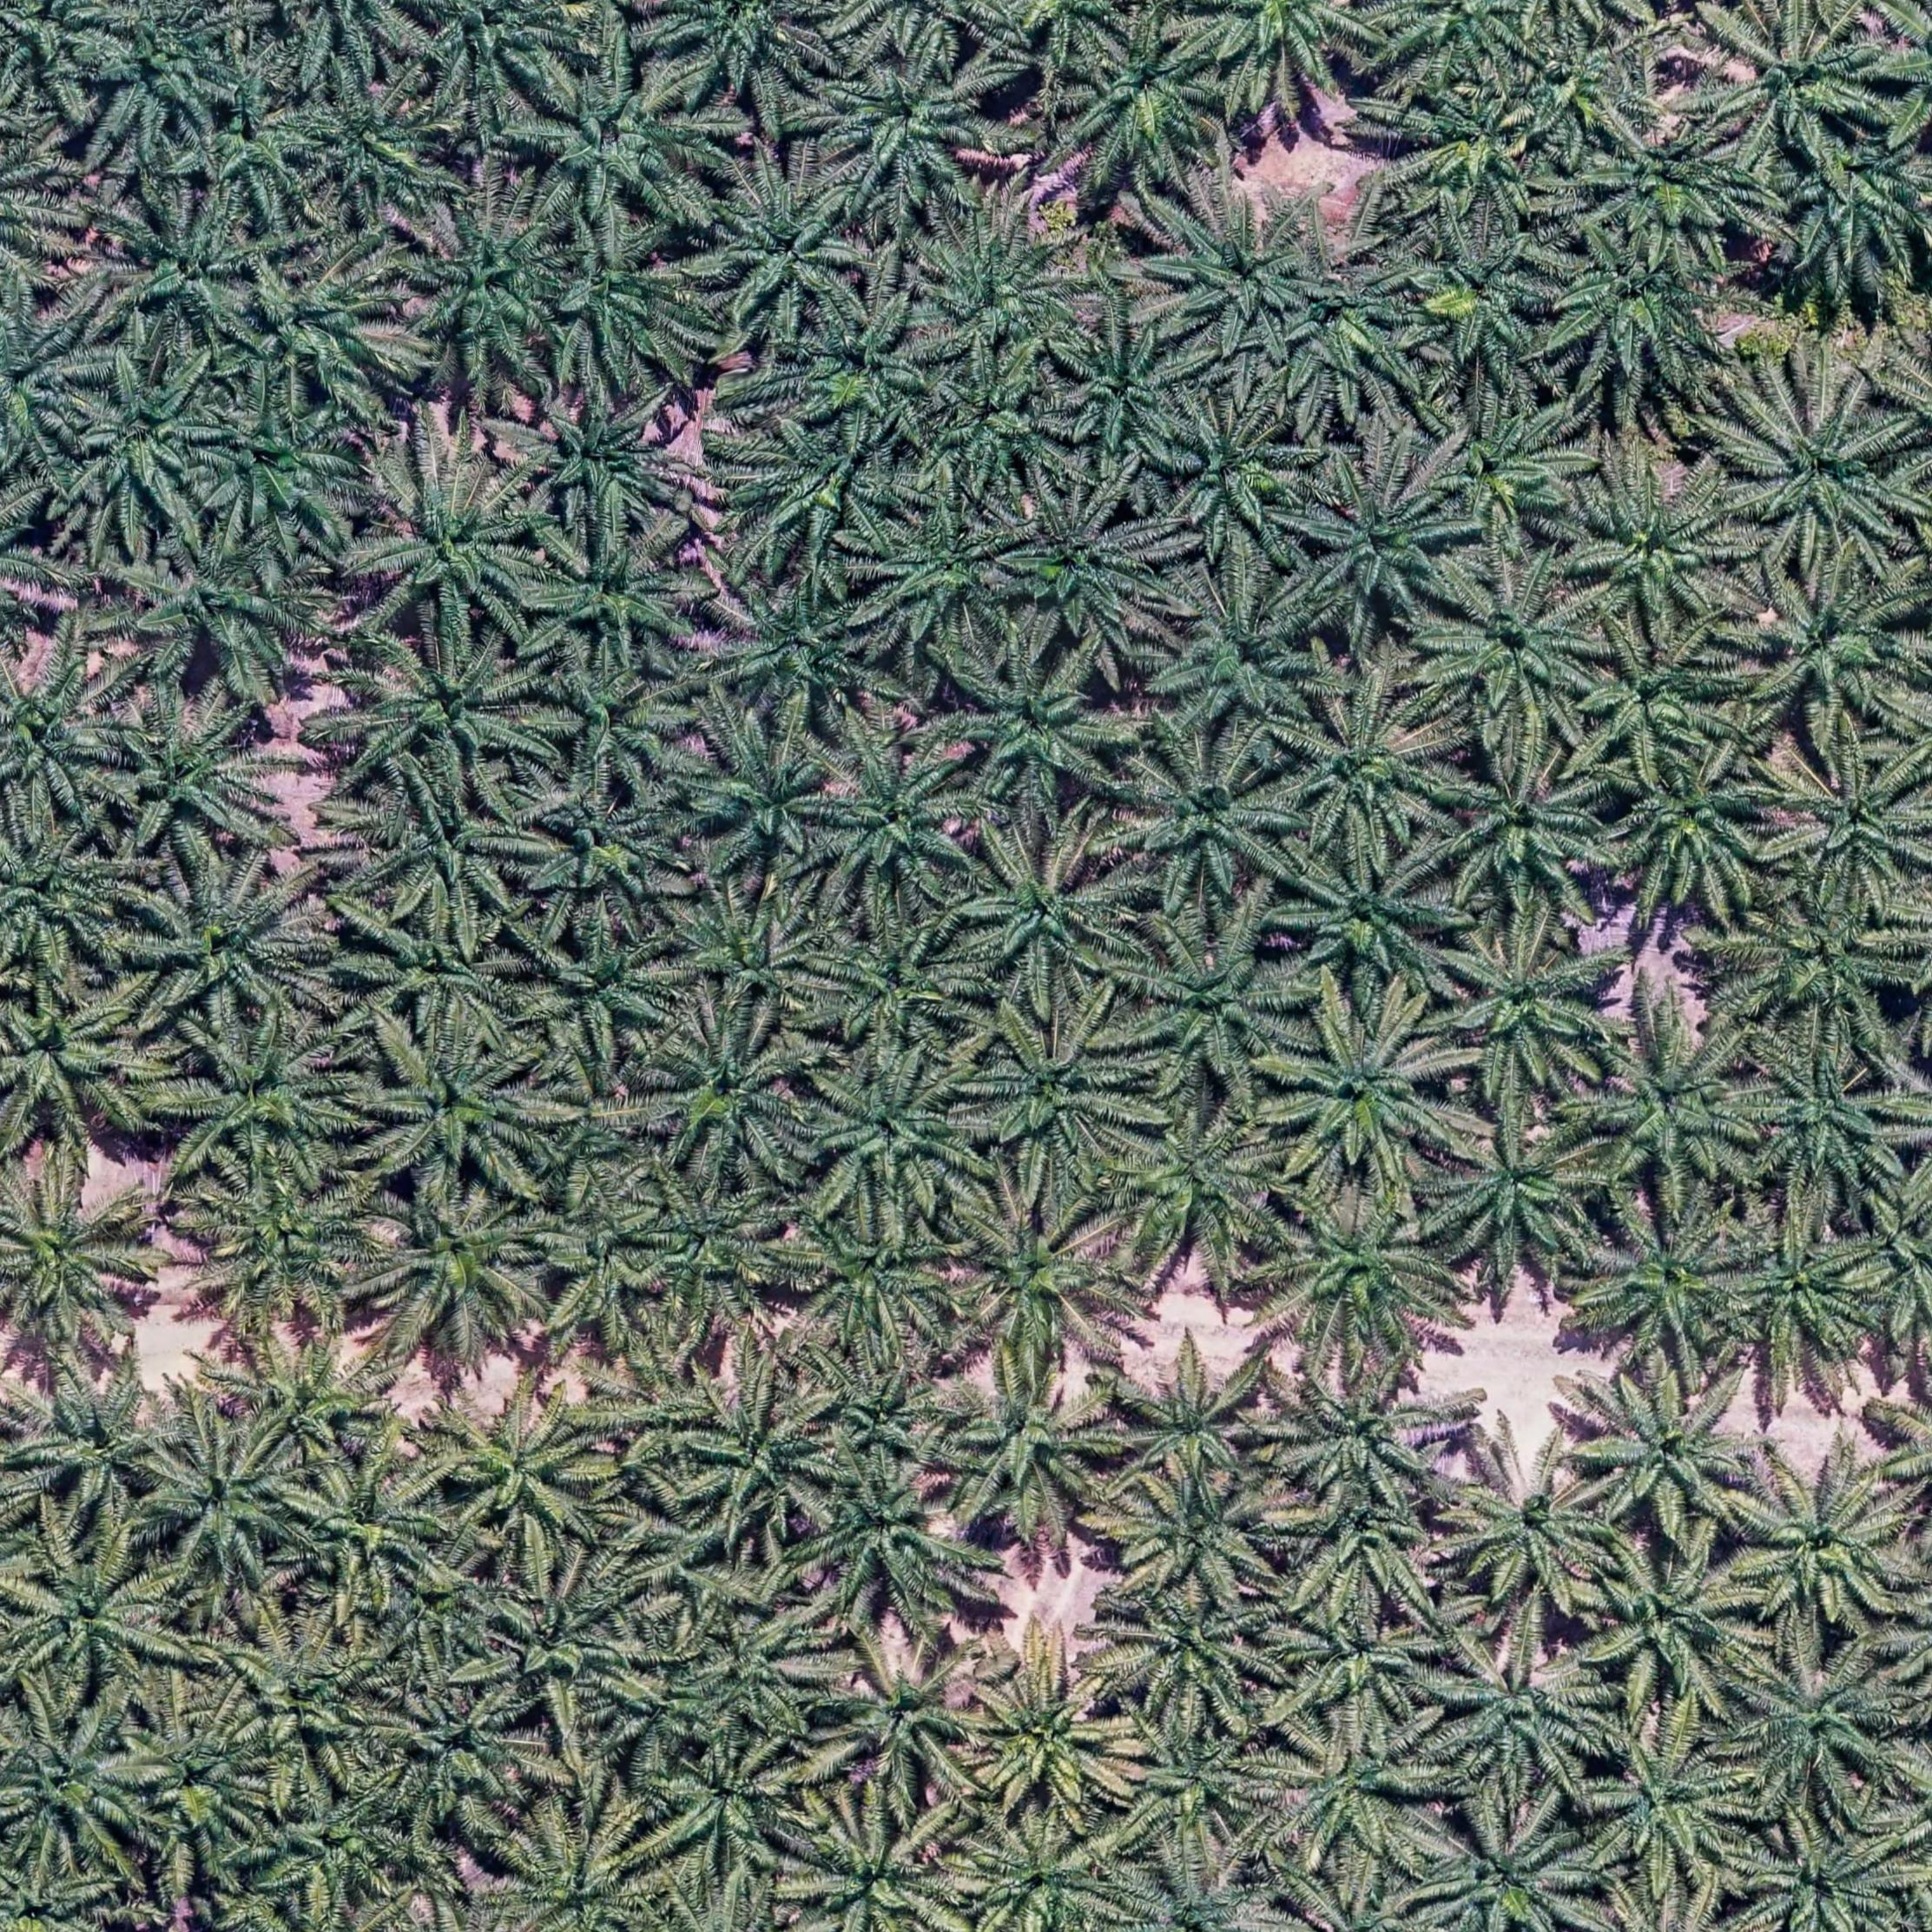palmtree: (127, 856, 338, 1040), (425, 1376, 625, 1566), (166, 1010, 373, 1192), (334, 628, 545, 807), (943, 1187, 1139, 1378), (1585, 1007, 1778, 1200), (520, 46, 720, 232), (1265, 1184, 1467, 1366), (1727, 373, 1918, 563), (115, 524, 313, 704), (1274, 998, 1463, 1182), (1426, 741, 1617, 922), (936, 1355, 1127, 1536), (359, 1185, 557, 1359), (359, 1024, 557, 1198), (189, 1164, 387, 1338), (1438, 1437, 1624, 1621), (1433, 918, 1621, 1100), (359, 456, 545, 637), (1730, 1458, 1918, 1637), (1122, 911, 1309, 1090), (203, 1615, 398, 1785), (1583, 1530, 1767, 1709), (1537, 232, 1734, 398), (1424, 563, 1608, 740), (0, 1162, 163, 1362), (1582, 1369, 1769, 1543), (1727, 1635, 1913, 1808), (1106, 1100, 1293, 1272), (1582, 1196, 1762, 1373), (950, 640, 1132, 816), (1269, 1352, 1460, 1518), (812, 1629, 996, 1801), (1605, 747, 1789, 918), (812, 46, 1000, 214), (798, 1047, 985, 1215), (407, 203, 584, 380), (349, 773, 545, 932), (794, 1453, 978, 1622), (1430, 1100, 1608, 1274), (1120, 740, 1302, 909), (1737, 563, 1920, 732), (1560, 464, 1744, 632), (644, 1003, 823, 1175), (1739, 881, 1921, 1049), (106, 697, 290, 863), (1718, 1208, 1891, 1384), (142, 1414, 318, 1585), (478, 1555, 656, 1725), (970, 1008, 1150, 1177), (234, 255, 418, 419), (1277, 832, 1463, 994), (1707, 7, 1897, 166), (1157, 571, 1336, 740), (810, 738, 982, 911), (12, 1530, 188, 1700), (727, 412, 908, 577), (0, 971, 161, 1155), (966, 1654, 1143, 1821), (1299, 464, 1476, 630), (715, 571, 893, 736), (0, 1698, 161, 1881), (780, 1207, 966, 1364), (1060, 18, 1233, 186), (1283, 685, 1460, 849), (626, 1175, 803, 1339), (1155, 195, 1339, 352), (676, 1371, 842, 1545), (1585, 1721, 1760, 1886), (1269, 242, 1421, 432), (1430, 1635, 1608, 1796), (1276, 1472, 1463, 1624), (1743, 1037, 1916, 1201), (529, 518, 711, 674), (518, 384, 701, 540), (702, 168, 870, 336), (14, 1366, 186, 1530), (962, 826, 1139, 985), (913, 216, 1092, 373), (350, 904, 540, 1053), (522, 1171, 686, 1341), (1582, 113, 1769, 262), (64, 357, 228, 525), (1109, 1461, 1295, 1610), (200, 384, 375, 541), (1108, 1339, 1284, 1495), (805, 911, 982, 1065), (1269, 1720, 1447, 1872), (1109, 1711, 1283, 1867), (1001, 487, 1169, 646), (520, 778, 695, 931), (106, 196, 274, 354), (285, 1447, 456, 1601), (548, 223, 711, 384), (1767, 133, 1932, 292), (228, 1322, 402, 1472), (1421, 389, 1589, 543), (1106, 1578, 1286, 1721), (784, 1798, 973, 1932), (1412, 1799, 1603, 1932), (863, 502, 1033, 651), (646, 1737, 817, 1884), (534, 653, 702, 801), (1773, 747, 1932, 902), (1576, 621, 1739, 773), (251, 1769, 419, 1916), (685, 725, 846, 878), (529, 916, 695, 1063), (377, 1679, 547, 1822), (0, 644, 131, 830), (1274, 1594, 1445, 1736), (81, 5, 241, 156), (294, 74, 456, 219), (793, 285, 947, 437), (913, 352, 1074, 497), (133, 1707, 281, 1863), (0, 816, 140, 980), (1407, 235, 1560, 382), (1161, 400, 1316, 541), (487, 1808, 663, 1932), (1053, 320, 1205, 464), (665, 890, 833, 1019), (1736, 1817, 1911, 1932), (954, 1817, 1129, 1932), (1396, 80, 1532, 226), (1185, 0, 1384, 101), (803, 1345, 955, 1476), (409, 0, 587, 111), (697, 1603, 837, 1739), (653, 0, 833, 99), (0, 299, 103, 471), (1523, 25, 1649, 163), (380, 1550, 515, 1674), (193, 94, 327, 216), (265, 0, 441, 81), (1375, 0, 1534, 80), (835, 0, 1012, 44)
